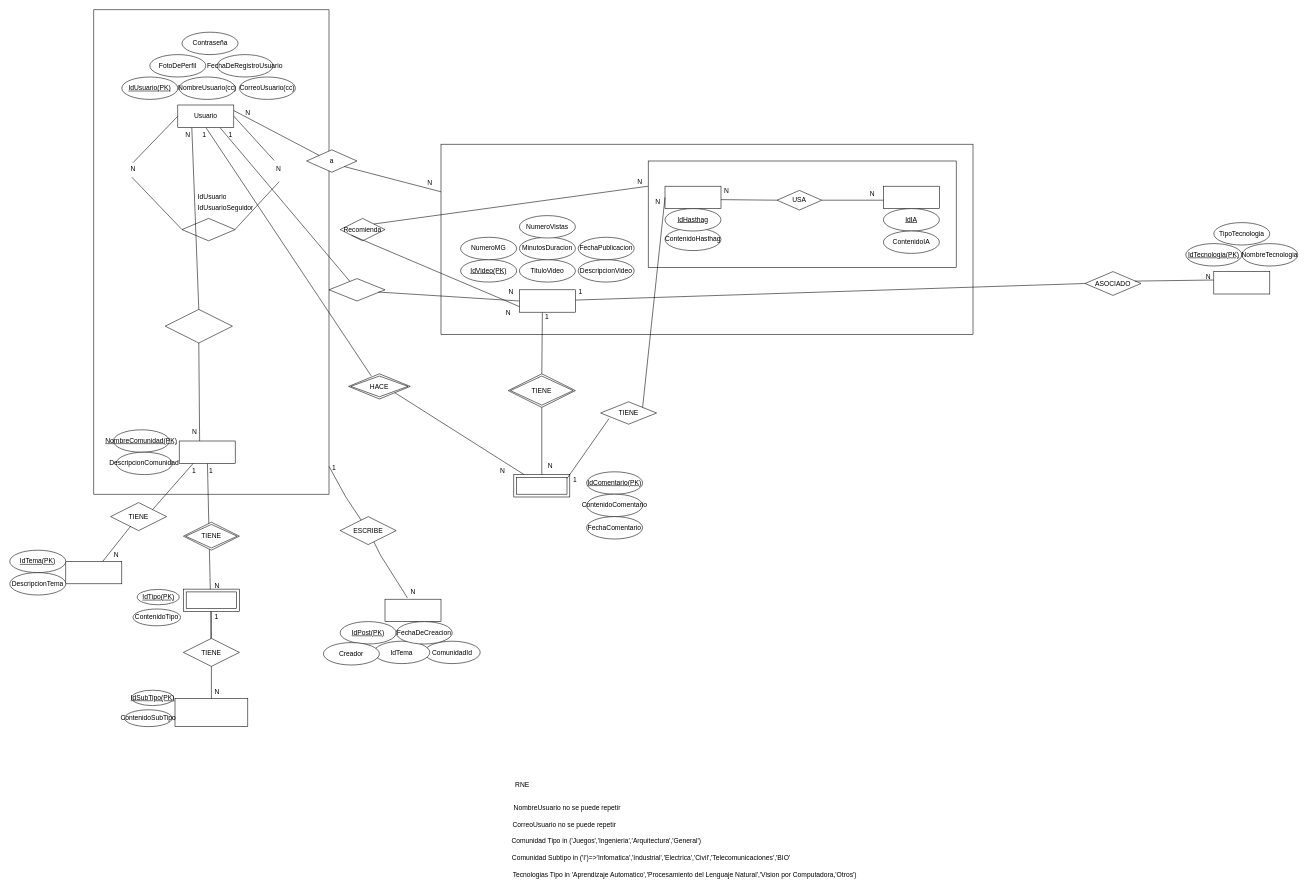
Image size: 1308x893. Some labels were removed from this diagram. Each missing label, with the centre of its shape:
"Comentario" belongs at point (541, 485).
"Comunidad" belongs at point (207, 451).
"Hasthag" belongs at point (692, 197).
"IA" belongs at point (911, 197).
"PERTENECE" belongs at point (198, 326).
"Post" belongs at point (412, 610).
"SIGUE" belongs at point (208, 229).
"SUBE" belongs at point (356, 289).
"SubTipoDeComunidad" belongs at point (211, 712).
"Tecnologia" belongs at point (1241, 282).
"Tema" belongs at point (93, 572).
"TipoDeComunidad" belongs at point (211, 600).
"Video" belongs at point (547, 300).
